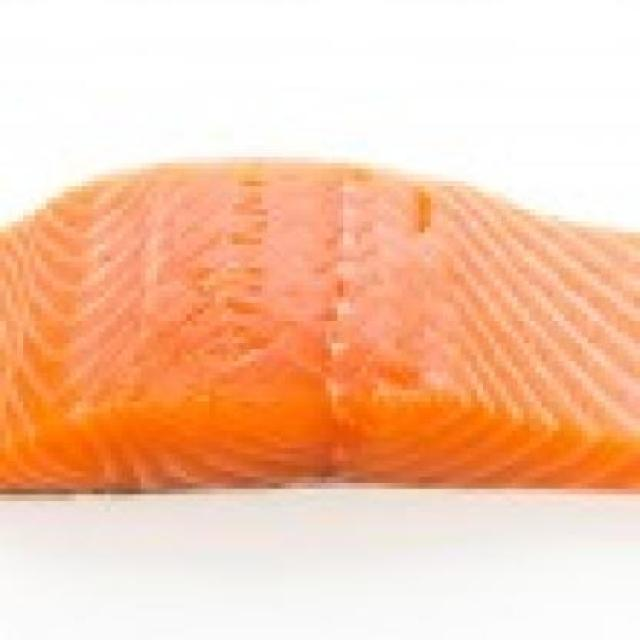salmon: (6, 153, 640, 502)
